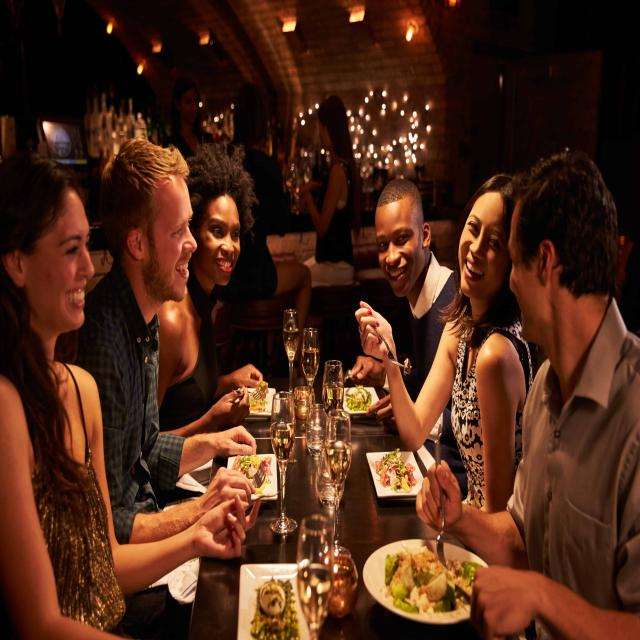person: (490, 146, 640, 640), (76, 132, 252, 537), (0, 148, 130, 640), (417, 168, 528, 524), (141, 137, 261, 426), (361, 164, 465, 428), (234, 65, 312, 347), (295, 99, 366, 285), (167, 71, 214, 145)
